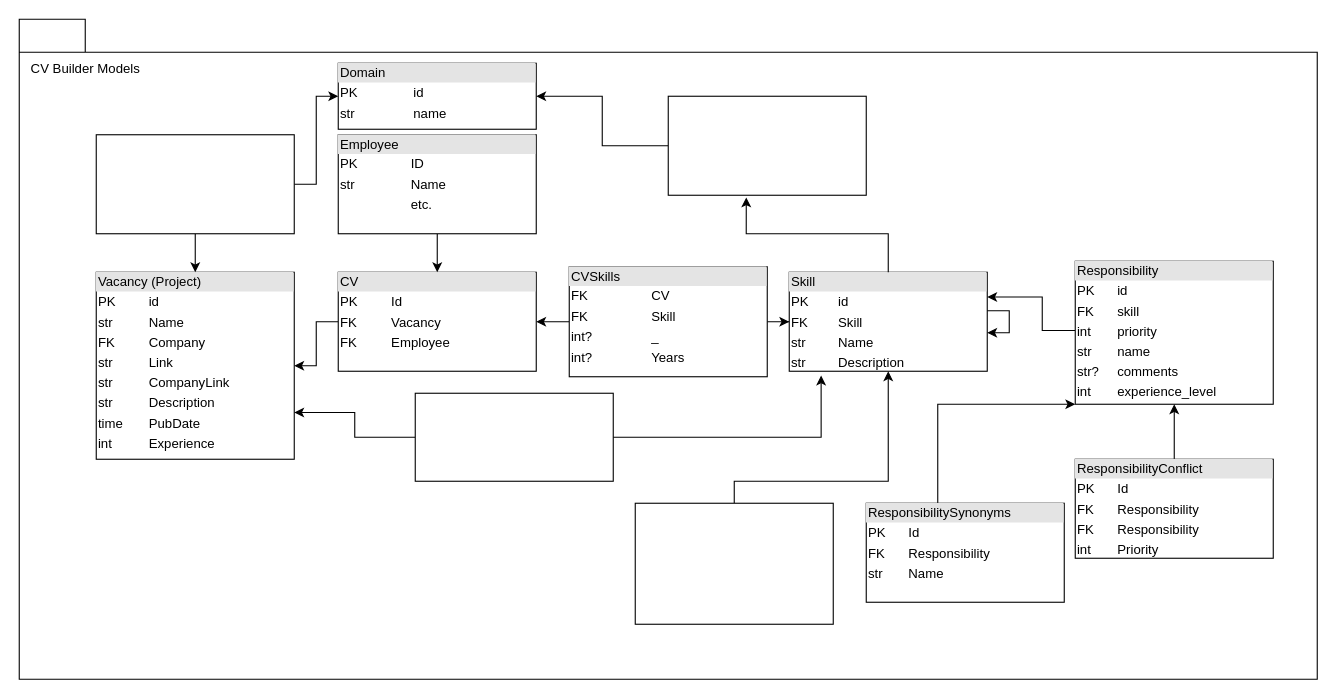
This 1337x699 diagram has some shape labels left out. The shapes that lost their labels are listed below. From the top down, each one's box as (x1, y1, x2, y2) in pixels, then its label:
(667, 95, 866, 195): SkillDomain FK Skill FK Domain int priority
(95, 134, 294, 234): VacancyDomain FK Vacancy FK Domain int priority
(414, 392, 613, 481): VacancySkills FK Vacancy FK Skill int priority
(634, 502, 833, 624): SkillConflict PK id FK Skill FK Skill str Comment int Priority
